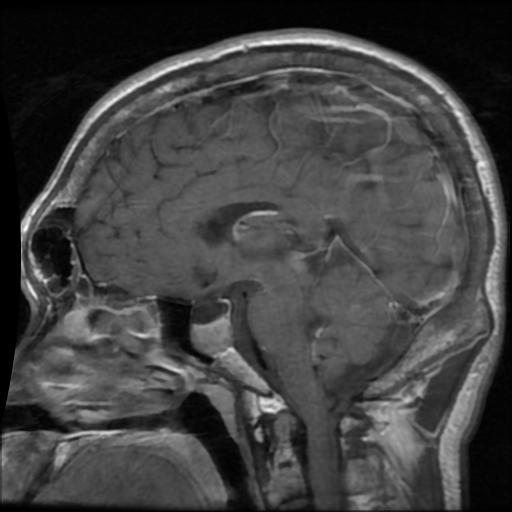Pituirity_tumour: (193, 319, 230, 352)
